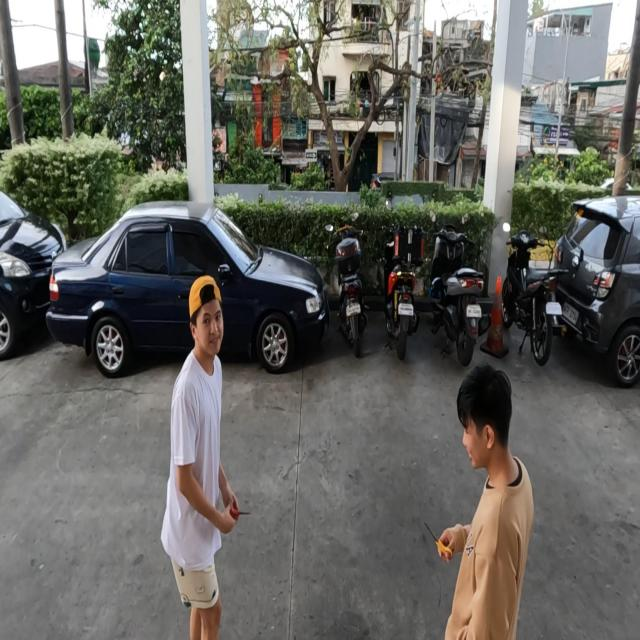scissor: (424, 522, 453, 562), (228, 503, 252, 524)
